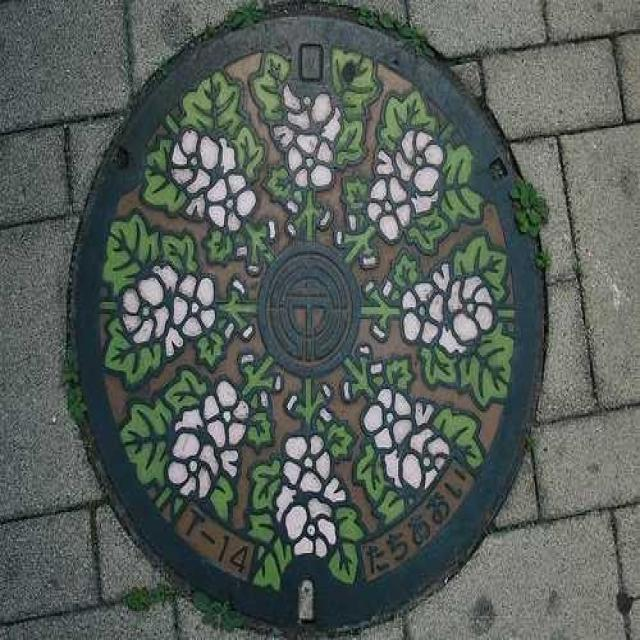manhole: (67, 12, 548, 633)
